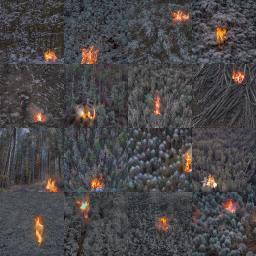Small fire: (33, 216, 49, 248), (78, 106, 95, 121), (82, 48, 96, 66), (45, 175, 58, 194), (212, 27, 229, 41), (30, 111, 44, 125), (45, 48, 58, 63)
